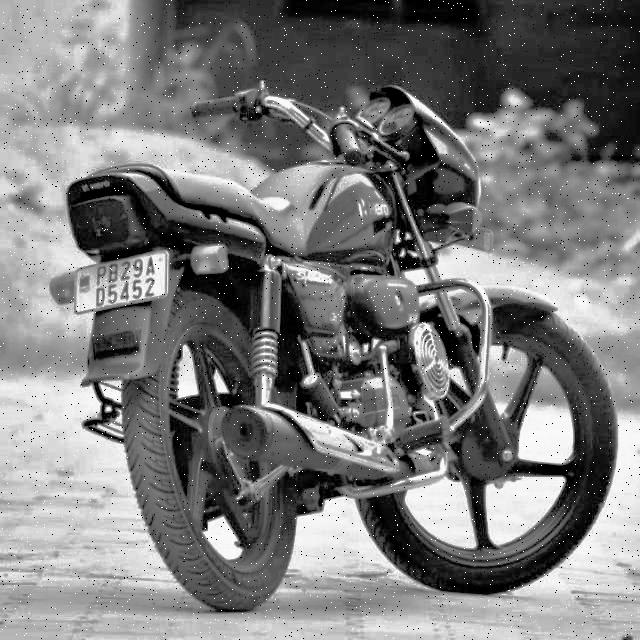Bike: (63, 84, 623, 640)
